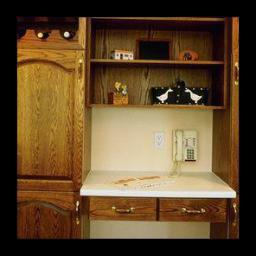Armario: (17, 48, 83, 237)
